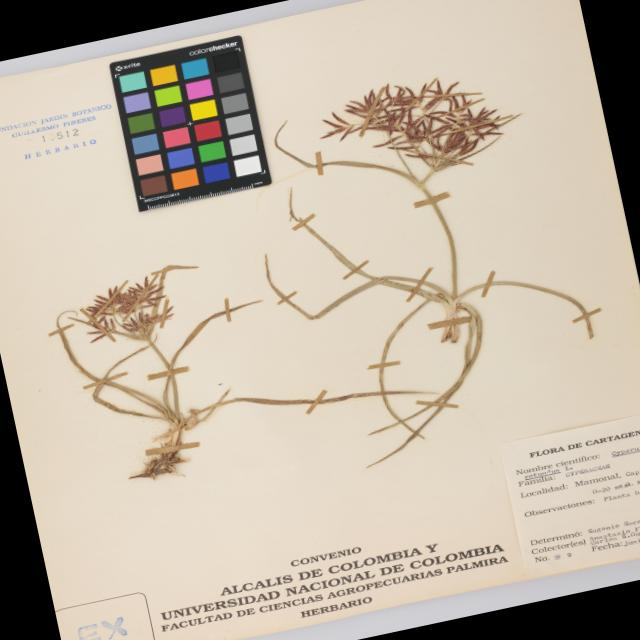cyperus: (299, 48, 545, 212), (48, 250, 214, 362)
